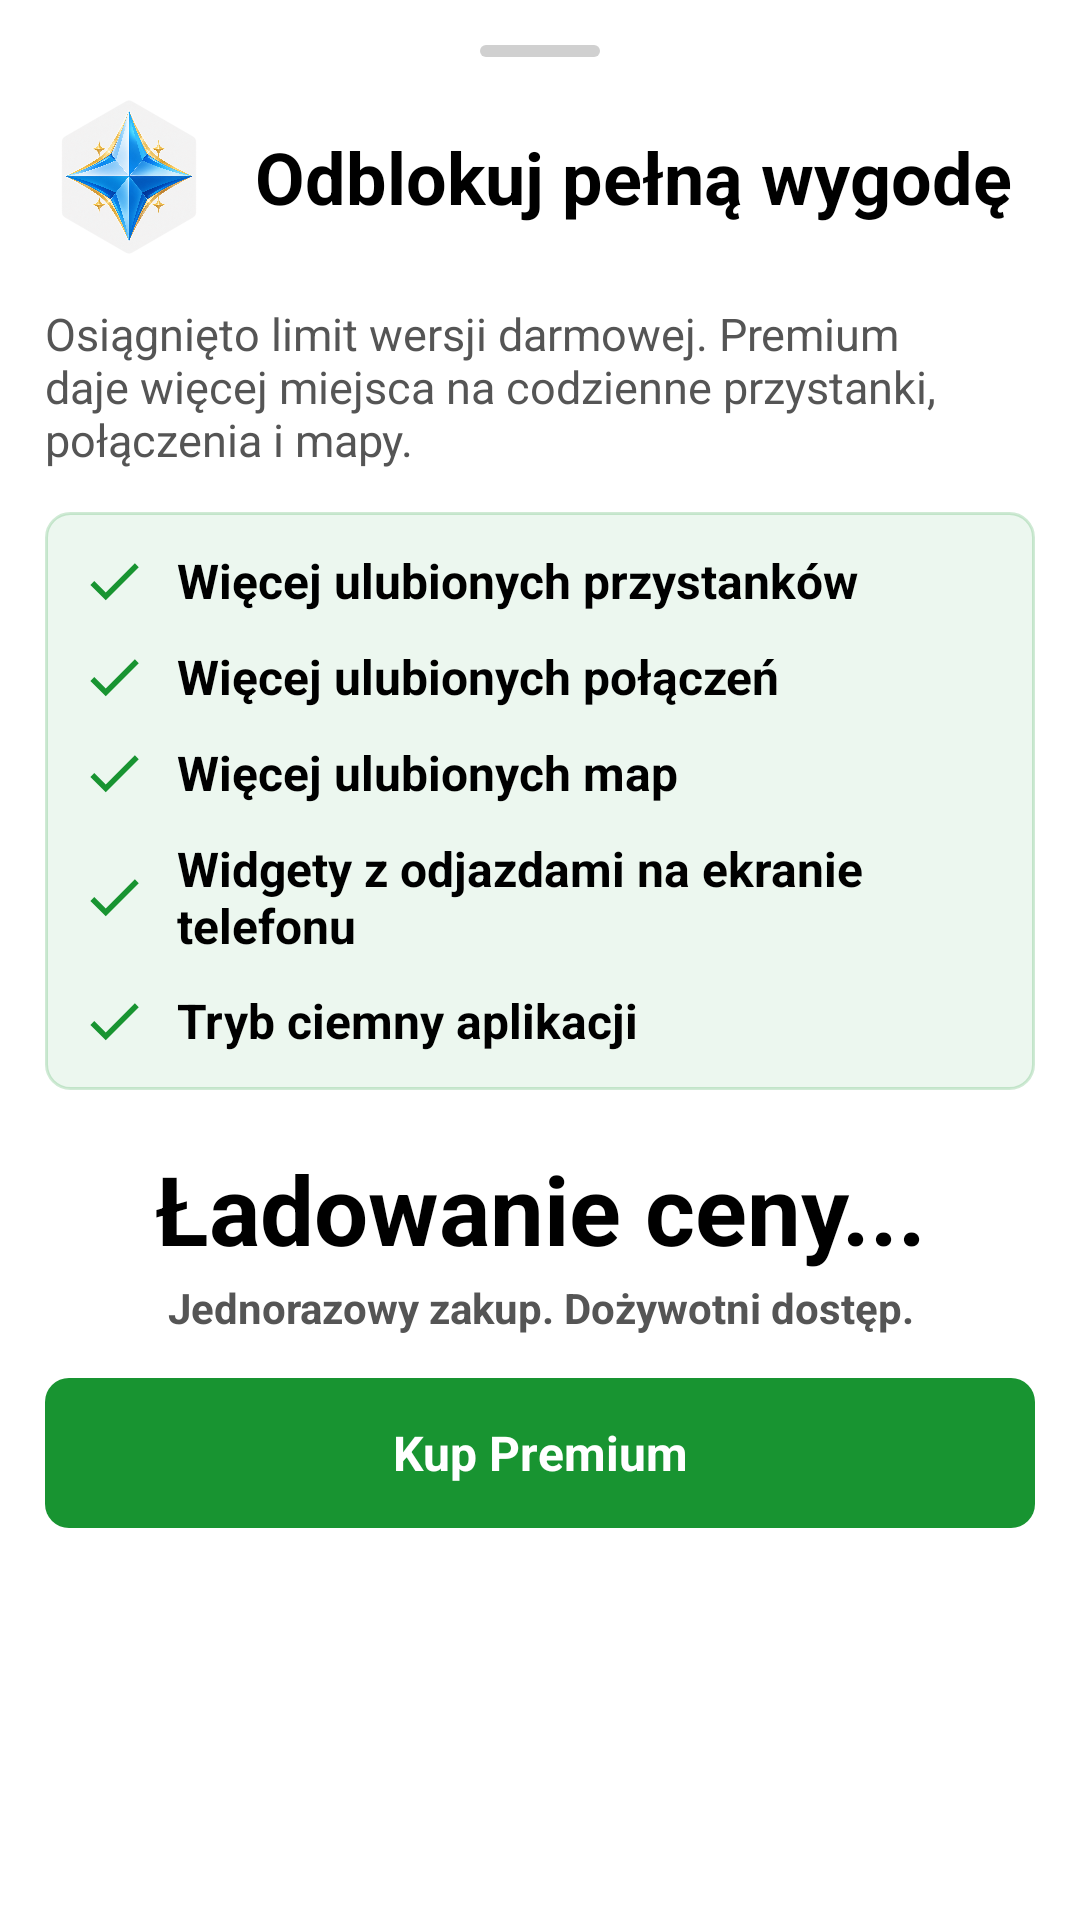

Icon click points for this 1080x1920 phone screenshot, format [x,y]:
check: [114,581], [114,677], [114,773], [114,897], [114,1021]
Ikona produktu premium: [129,177]
